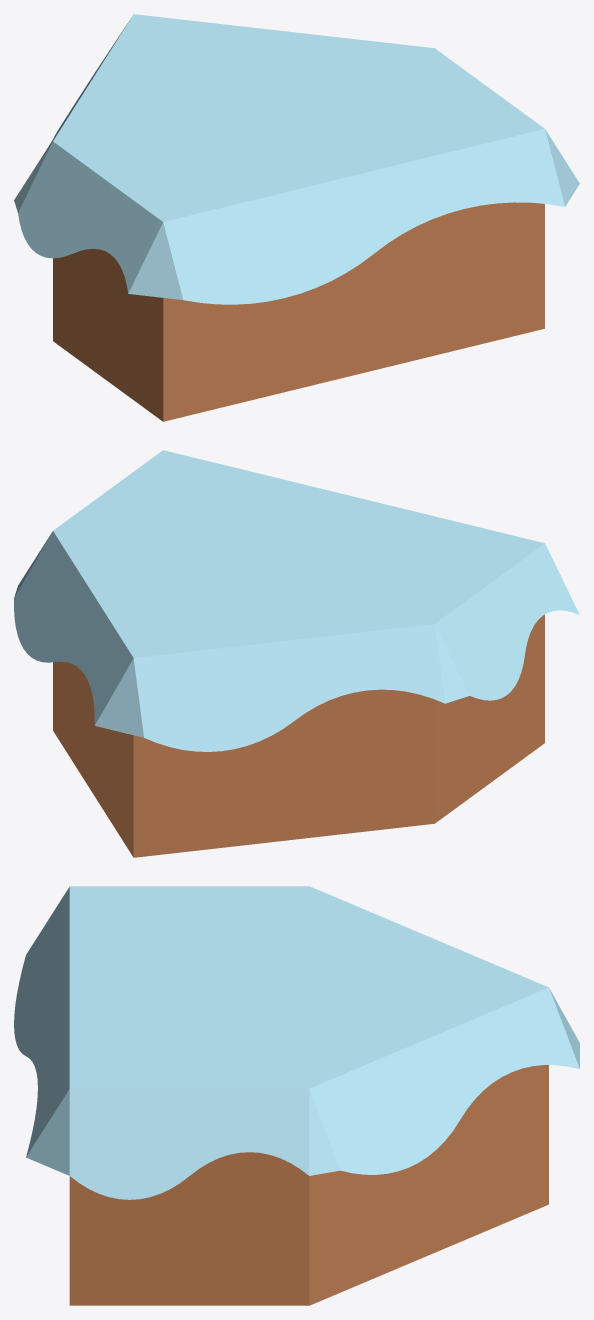
Rendered from blockSnowEnd.dae.
3 renders of one model, top to bottom at view 1: azimuth 30°, elevation 25°; view 2: azimuth 150°, elevation 25°; view 3: azimuth 270°, elevation 25°, orthographic. The views are drawn at different scales.
Parts seen in each view (by area): view 1: blockSnowEnd; view 2: blockSnowEnd; view 3: blockSnowEnd.
Boxes of the visible parts, box(x1,y1,x2,y2) form: blockSnowEnd: box(14, 14, 579, 421); blockSnowEnd: box(14, 450, 579, 857); blockSnowEnd: box(14, 886, 579, 1305).
Size of the model in its own units: 1.23 by 0.5 by 1.18.
